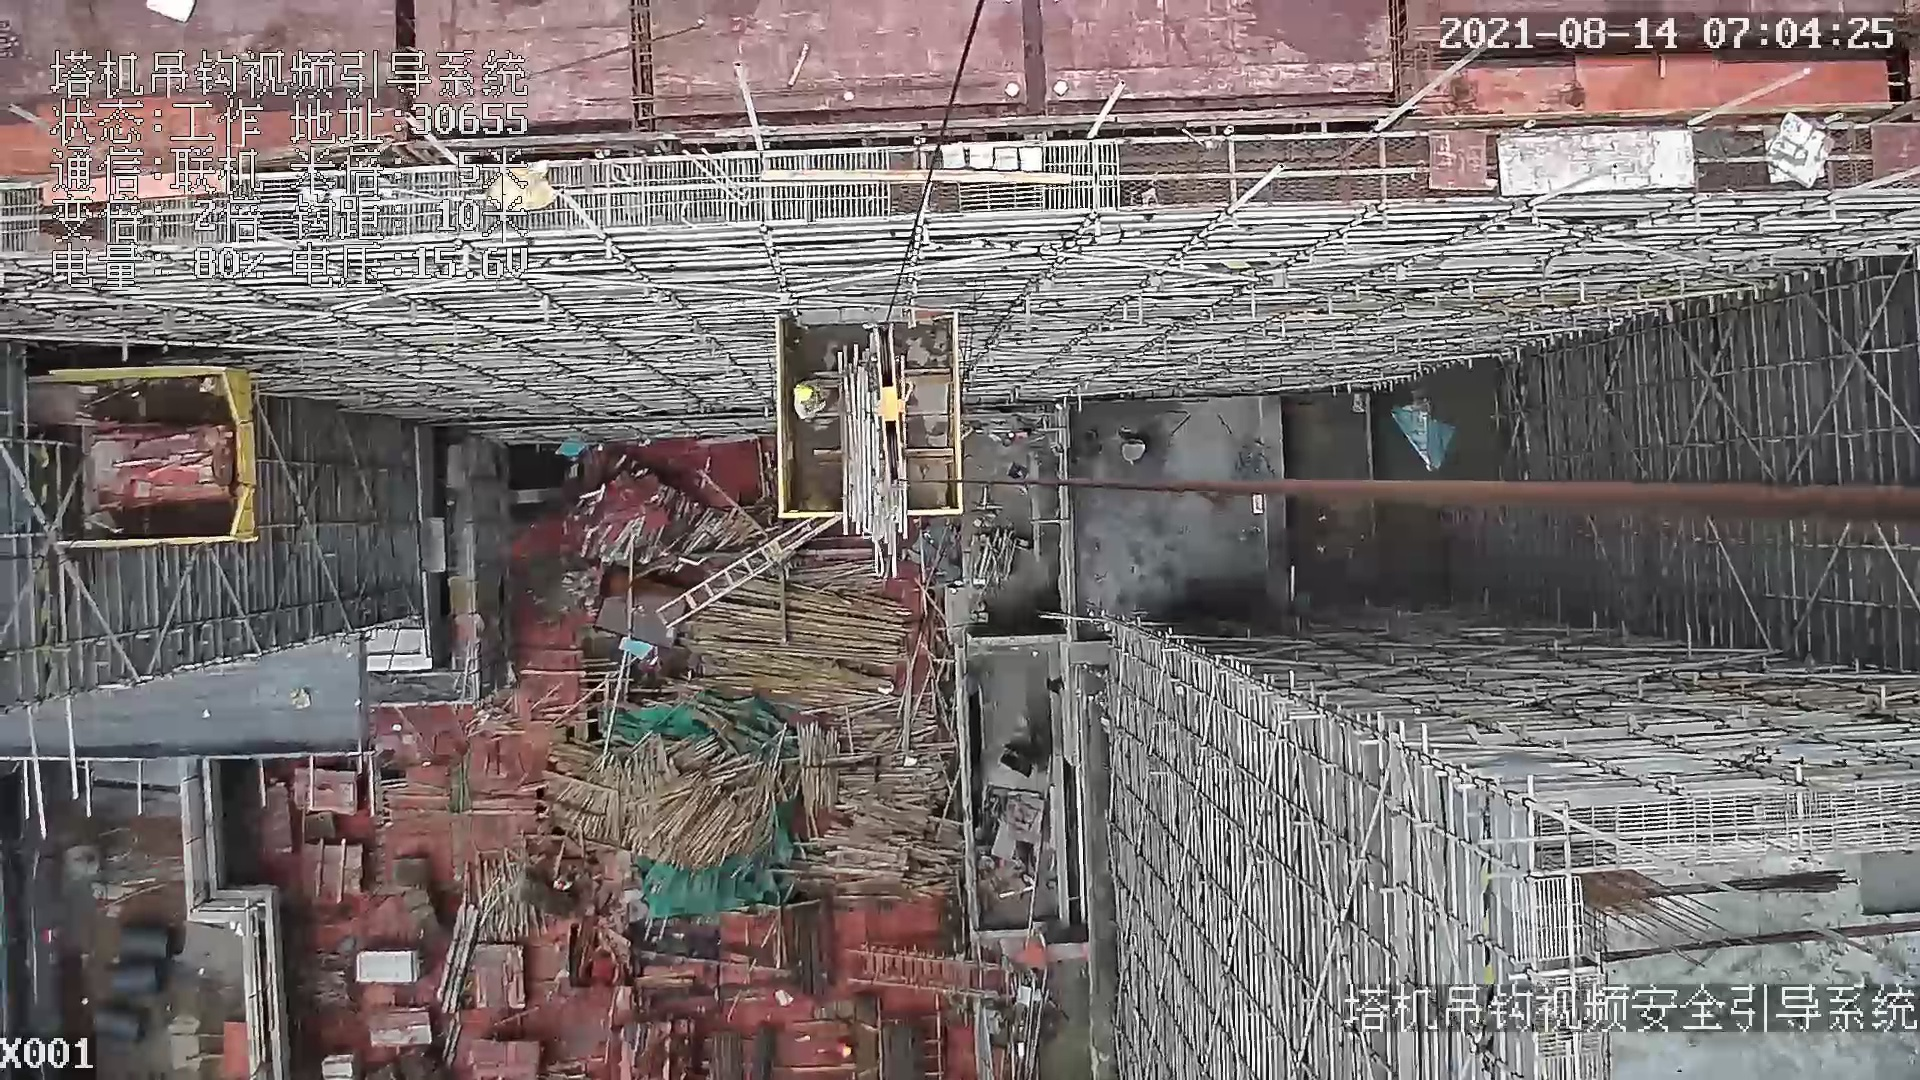hook: (864, 314, 913, 504)
person: (792, 382, 829, 426)
